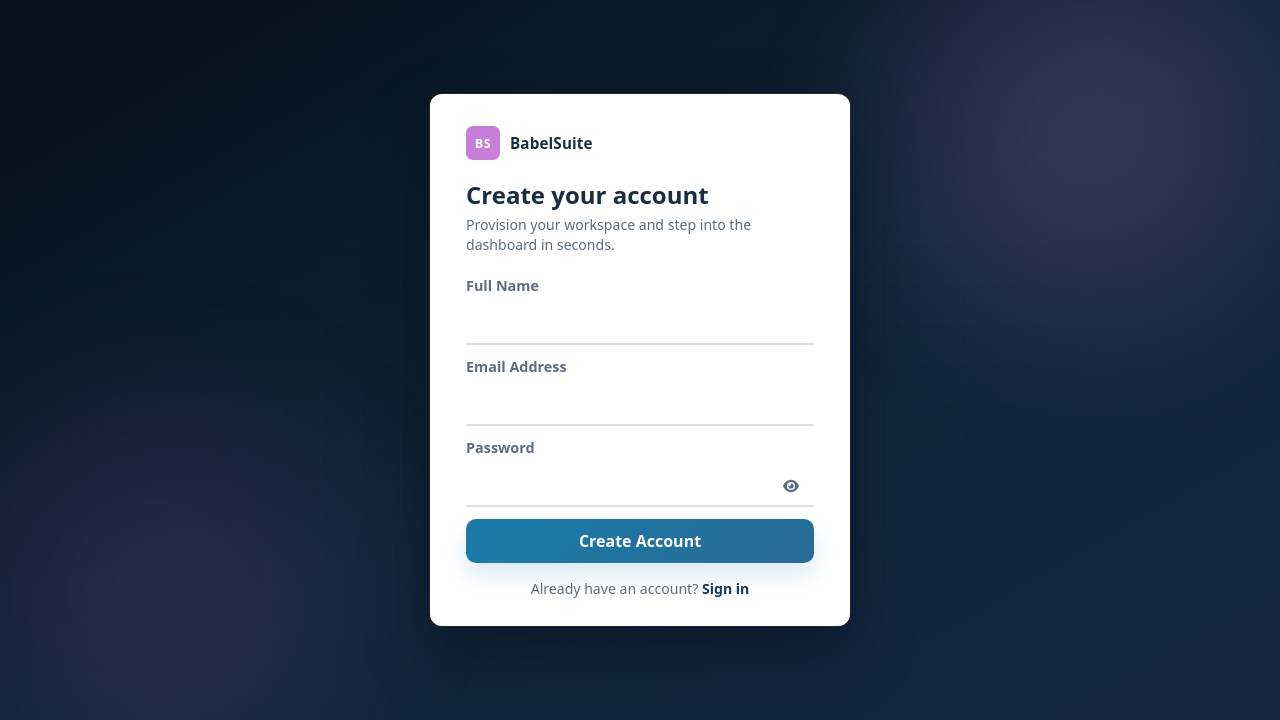
SignUp › shows an error message on sign-up failure
In the field labelled "Full Name": [640, 324] box [466,303,814,345], type "Alice"
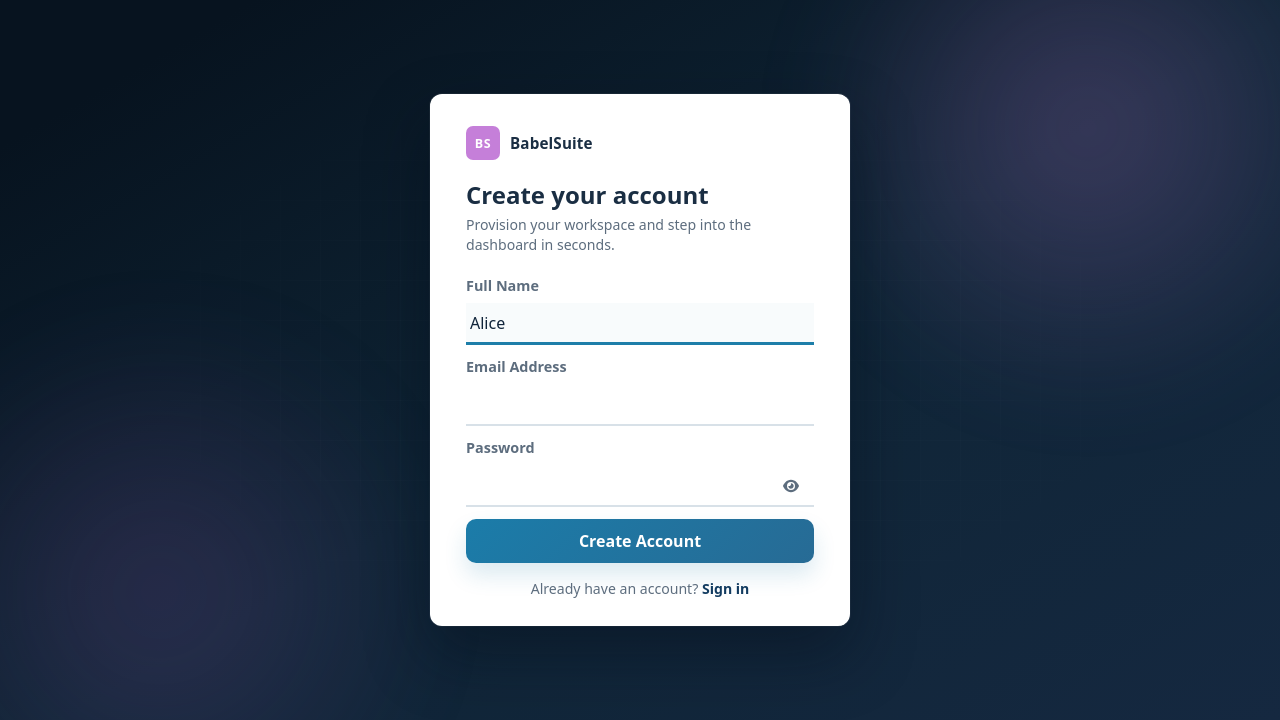
In the field labelled "Email Address": [640, 405] box [466,384,814,426], type "alice@example.com"
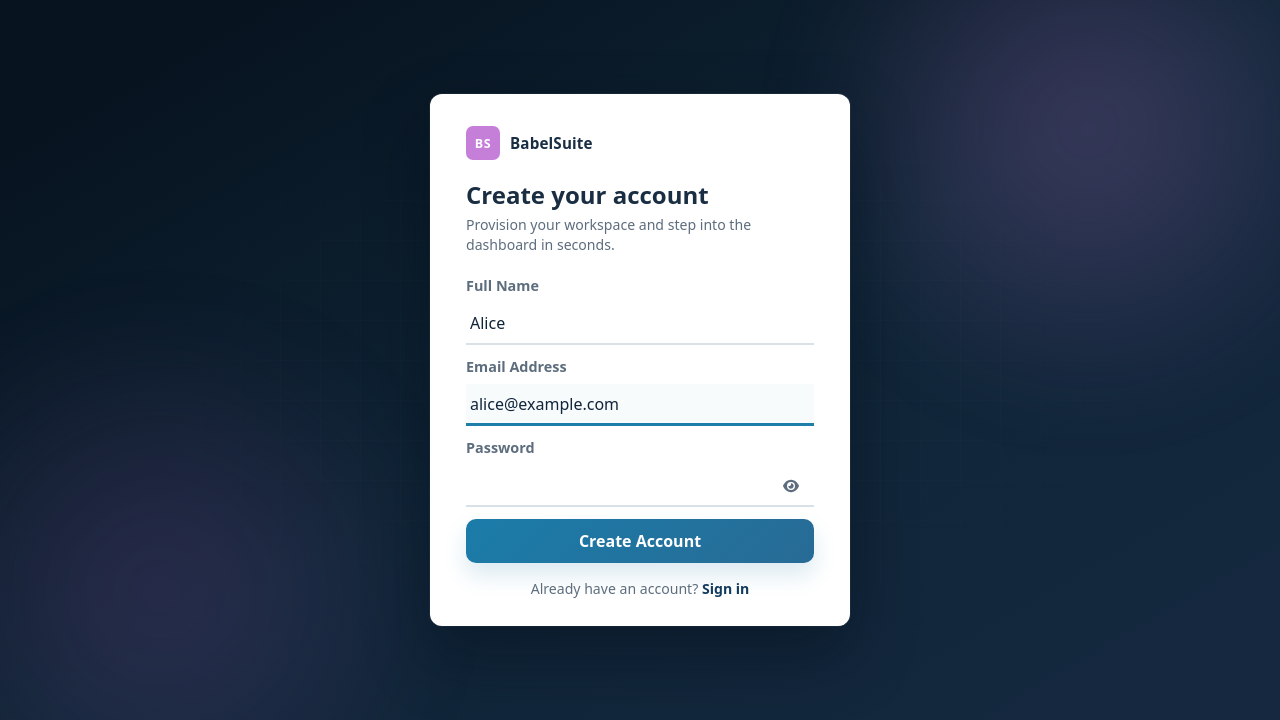
In the password field labelled "Password": [640, 486] box [466,465,814,507], type "Password1"
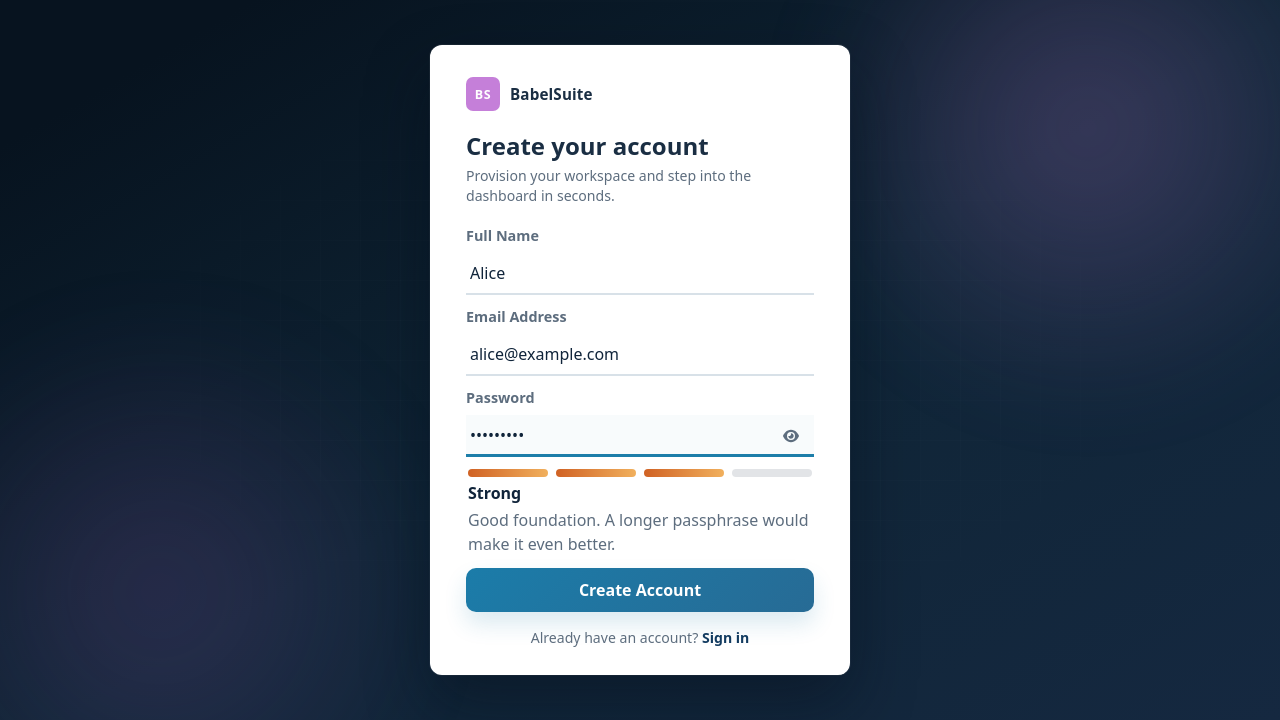
Click the button "Create Account": [640, 590] box [466,568,814,612]
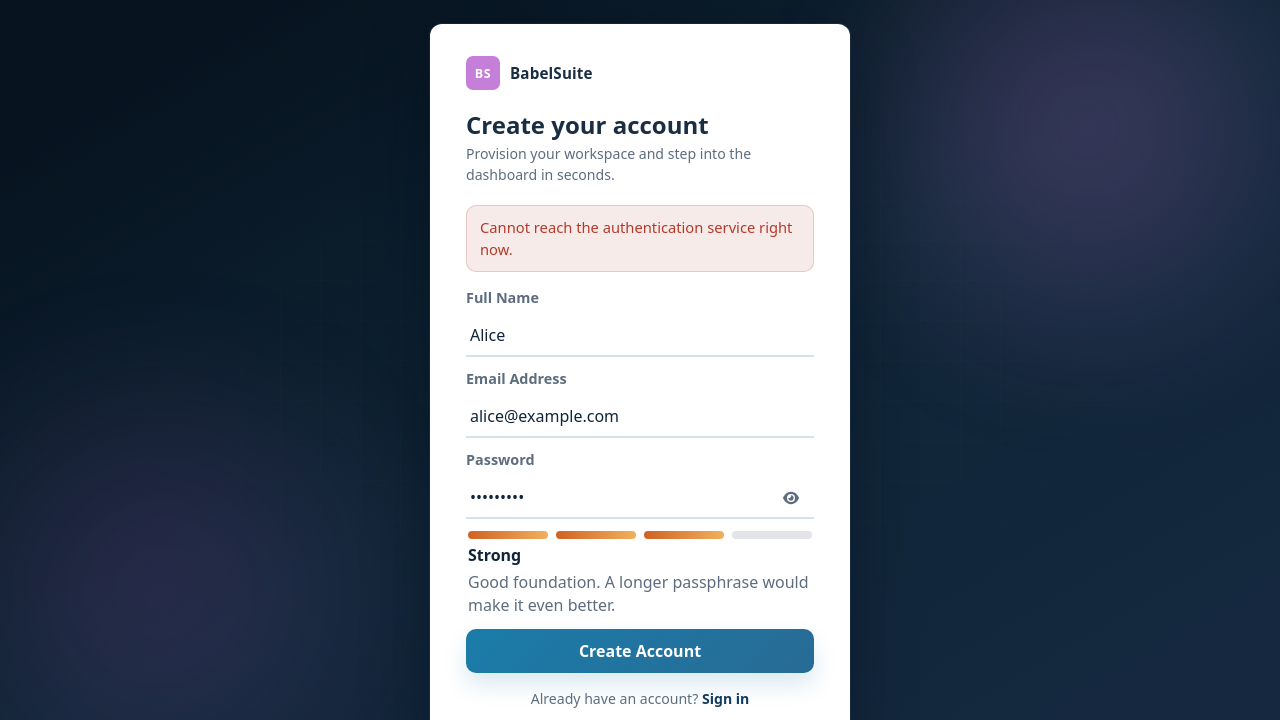
Now the text "Cannot reach the authentication service right now." is shown, box [466,205,814,272]
